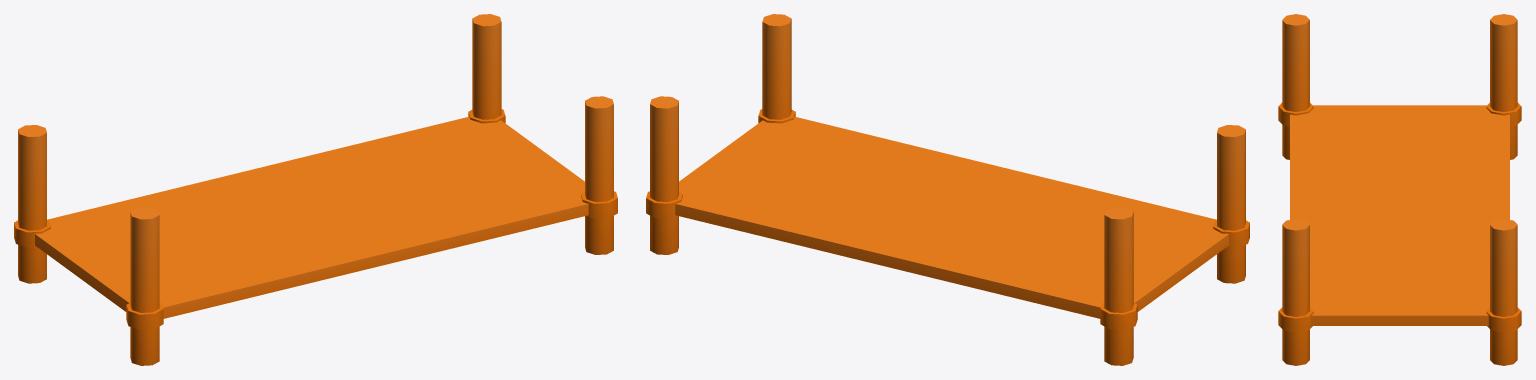
The model's file is Table_Leg_01_D_C03.fbx.
The picture shows the model from 3 angles, left to right: view 1: azimuth 30°, elevation 25°; view 2: azimuth 150°, elevation 25°; view 3: azimuth 270°, elevation 25°; orthographic projection. The views are drawn at different scales.
Parts seen in each view (by area): view 1: Table_Leg_01_D_C03; view 2: Table_Leg_01_D_C03; view 3: Table_Leg_01_D_C03.
Part boxes in pixels (x1,y1,x2,y2): Table_Leg_01_D_C03: [14, 14, 617, 365]; Table_Leg_01_D_C03: [646, 14, 1249, 365]; Table_Leg_01_D_C03: [1278, 14, 1521, 365].
Size of the model in its own units: 188 by 53.91 by 87.78.
